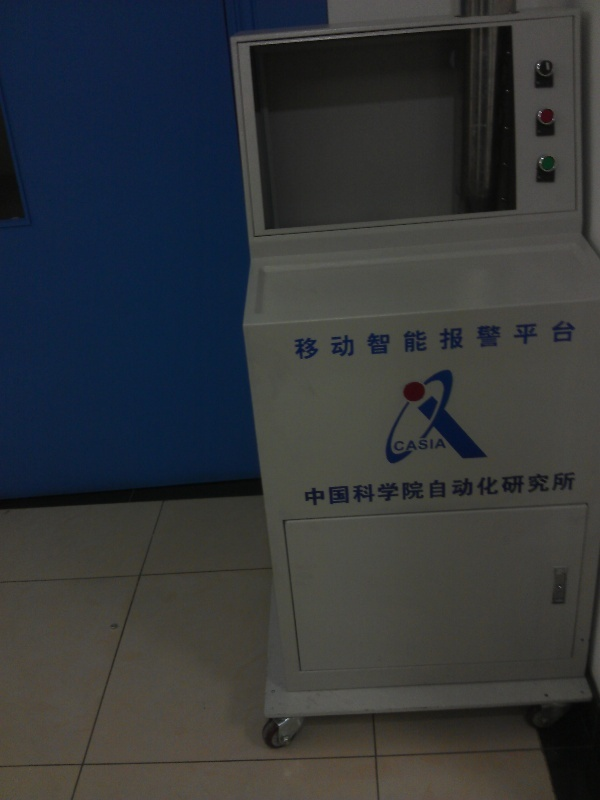text: (305, 317, 320, 362), (321, 317, 336, 362), (337, 317, 352, 362), (353, 317, 368, 362), (369, 317, 384, 362), (385, 317, 400, 362), (401, 317, 416, 362), (417, 317, 432, 362), (433, 317, 448, 362), (449, 317, 464, 362), (465, 317, 480, 362), (481, 317, 496, 362), (497, 317, 512, 362), (513, 317, 528, 362), (529, 317, 544, 362), (545, 317, 560, 362), (561, 317, 576, 362), (305, 470, 320, 507), (321, 470, 336, 507), (337, 470, 352, 507), (353, 470, 368, 507), (369, 470, 384, 507), (385, 470, 400, 507), (401, 470, 416, 507), (417, 470, 432, 507), (433, 470, 448, 507), (449, 470, 464, 507), (465, 470, 480, 507), (481, 470, 496, 507), (497, 470, 512, 507), (513, 470, 528, 507), (529, 470, 544, 507), (545, 470, 560, 507), (561, 470, 576, 507), (292, 317, 304, 362), (401, 438, 416, 453), (417, 438, 432, 453), (433, 438, 446, 453), (577, 470, 582, 507), (577, 317, 579, 362), (394, 438, 400, 453), (303, 470, 304, 507)
